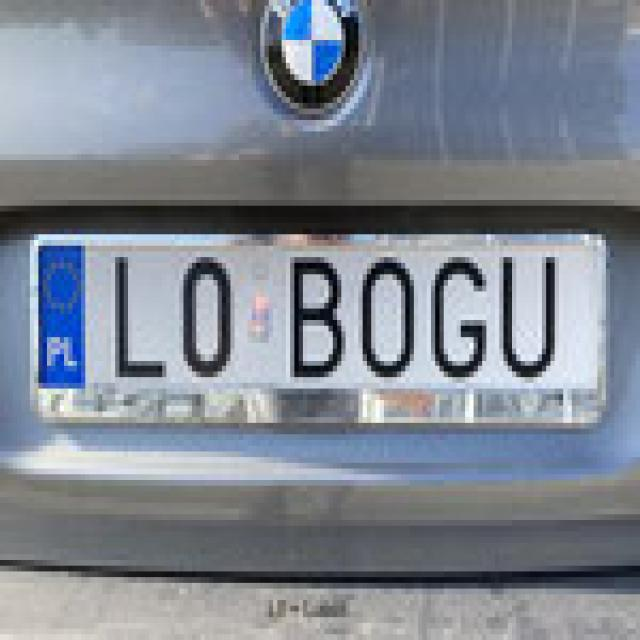pl_license_plate: (34, 240, 585, 383)
